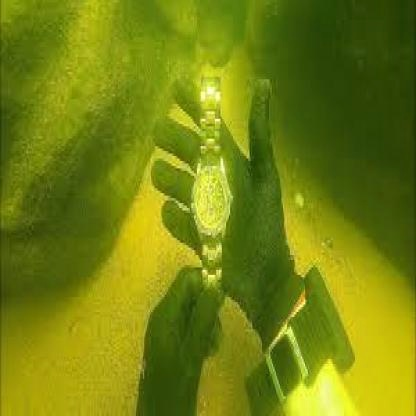misc: (190, 72, 233, 329)
